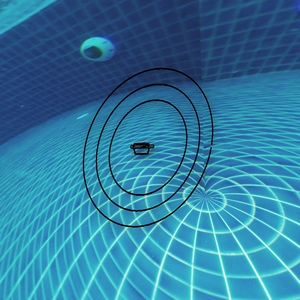circle: (81, 59, 215, 239)
submarine: (130, 143, 153, 154)
